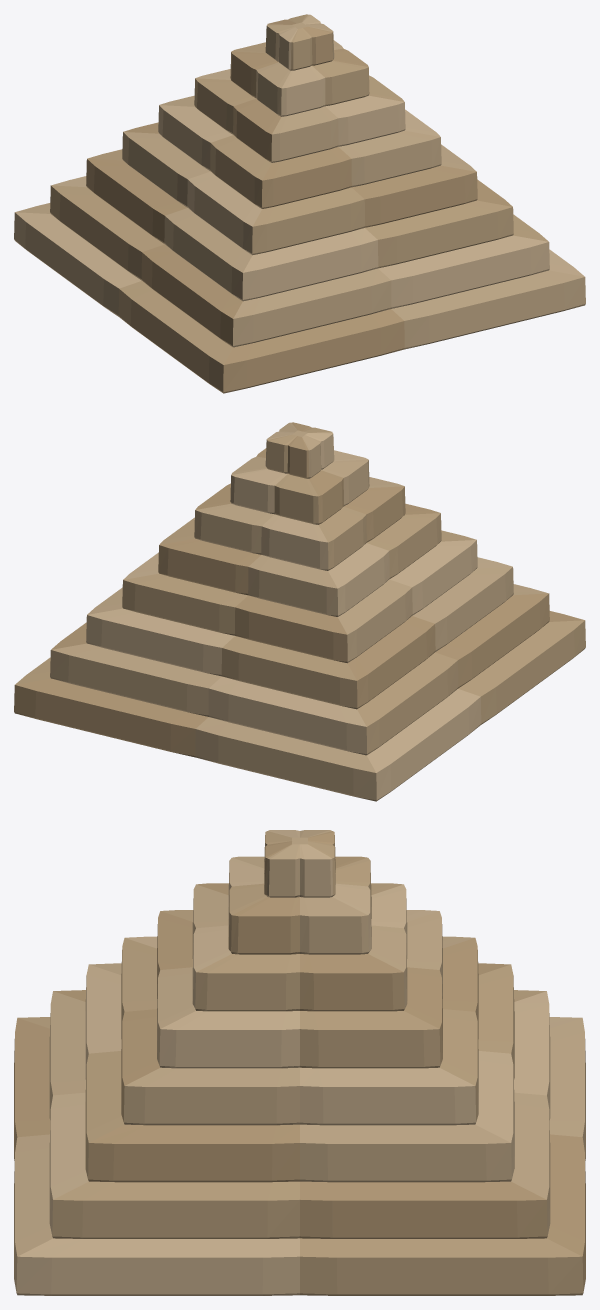
Rendered from NEW_RECOVERY_102_LOD2.glb.
The picture shows the model from 3 angles, top to bottom: view 1: azimuth 30°, elevation 25°; view 2: azimuth 150°, elevation 25°; view 3: azimuth 270°, elevation 25°; orthographic projection. The views are drawn at different scales.
Parts seen in each view (by area): view 1: Pyramid solid stepped limestone; view 2: Pyramid solid stepped limestone; view 3: Pyramid solid stepped limestone.
Part boxes in pixels (x1=…): Pyramid solid stepped limestone: x1=14, y1=14, x2=585, y2=393; Pyramid solid stepped limestone: x1=14, y1=422, x2=585, y2=801; Pyramid solid stepped limestone: x1=14, y1=830, x2=585, y2=1295.
Bounding box in the file's own units: 10 × 6.46 × 10.
